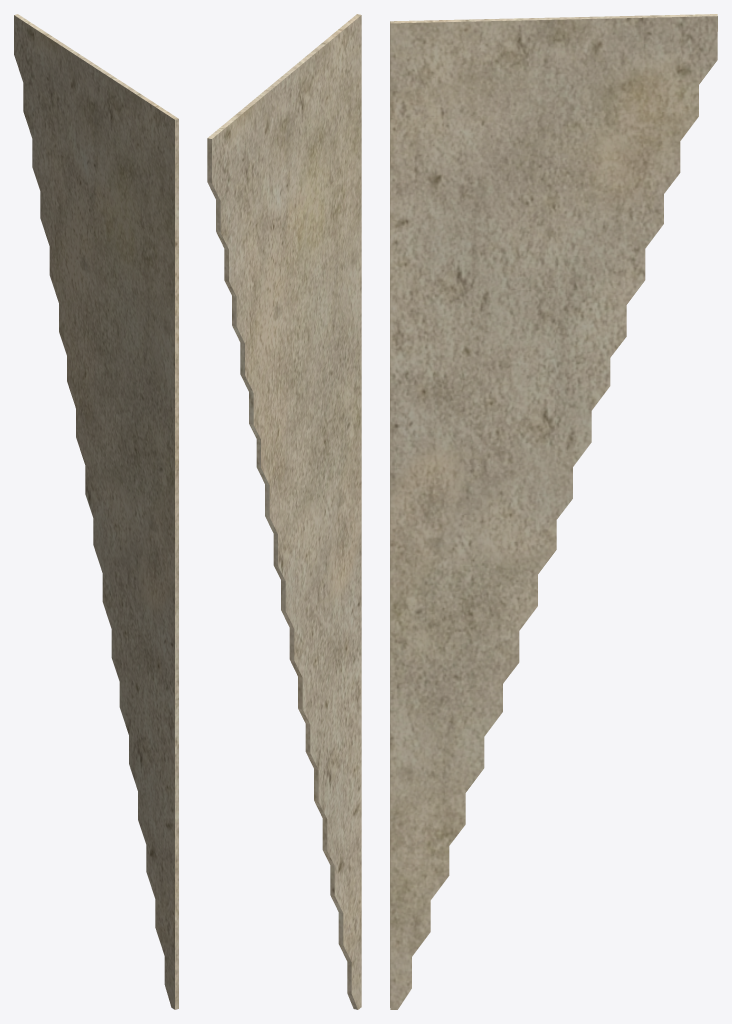
File: concrete_39.fbx
3 renders of one model, left to right at view 1: azimuth 30°, elevation 25°; view 2: azimuth 150°, elevation 25°; view 3: azimuth 270°, elevation 25°, orthographic. The views are drawn at different scales.
Parts seen in each view (by area): view 1: concrete_39; view 2: concrete_39; view 3: concrete_39.
Part boxes in pixels (x1=…): concrete_39: x1=14, y1=14, x2=178, y2=1009; concrete_39: x1=207, y1=14, x2=361, y2=1009; concrete_39: x1=390, y1=14, x2=717, y2=1009.
Bounding box in the file's own units: 43.64 × 2135 × 643.
